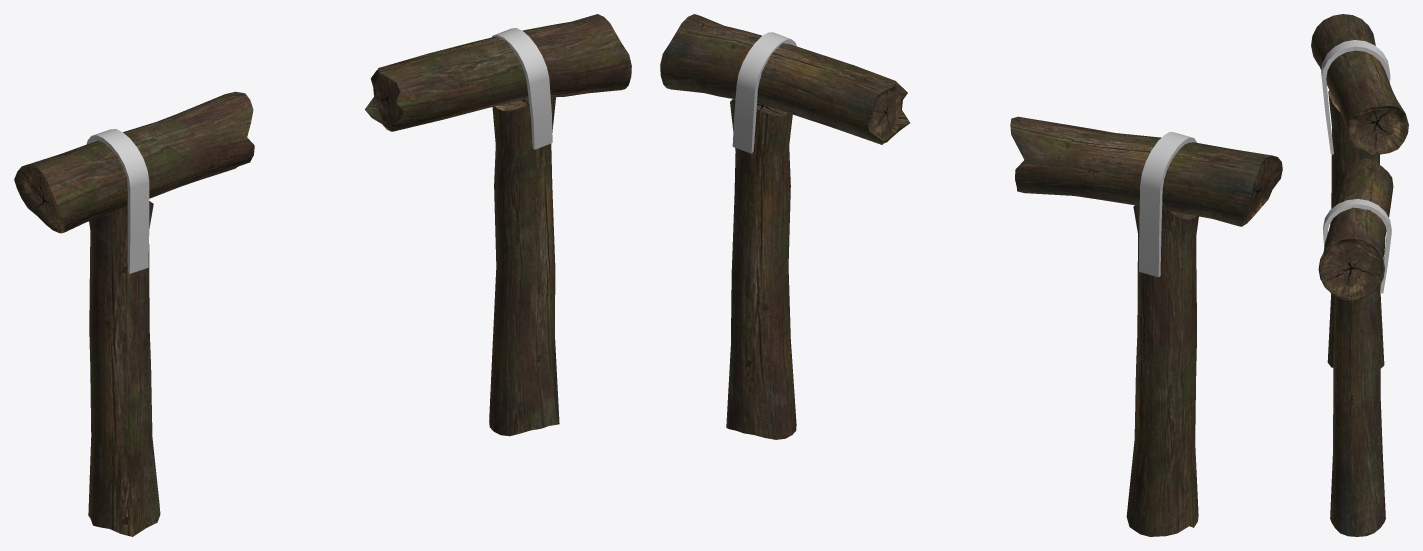
The picture shows the model from 3 angles, left to right: view 1: azimuth 30°, elevation 25°; view 2: azimuth 150°, elevation 25°; view 3: azimuth 270°, elevation 25°; orthographic projection. The views are drawn at different scales.
Parts seen in each view (by area): view 1: SM_Village_Hitching_Post_v1_LOD0; view 2: SM_Village_Hitching_Post_v1_LOD0; view 3: SM_Village_Hitching_Post_v1_LOD0.
Boxes of the visible parts, x1,y1,x2,y2 form: SM_Village_Hitching_Post_v1_LOD0: (14, 14, 631, 536); SM_Village_Hitching_Post_v1_LOD0: (660, 14, 1282, 536); SM_Village_Hitching_Post_v1_LOD0: (1311, 14, 1408, 536).
Bounding box in the file's own units: 2.33 × 1.49 × 0.413.
